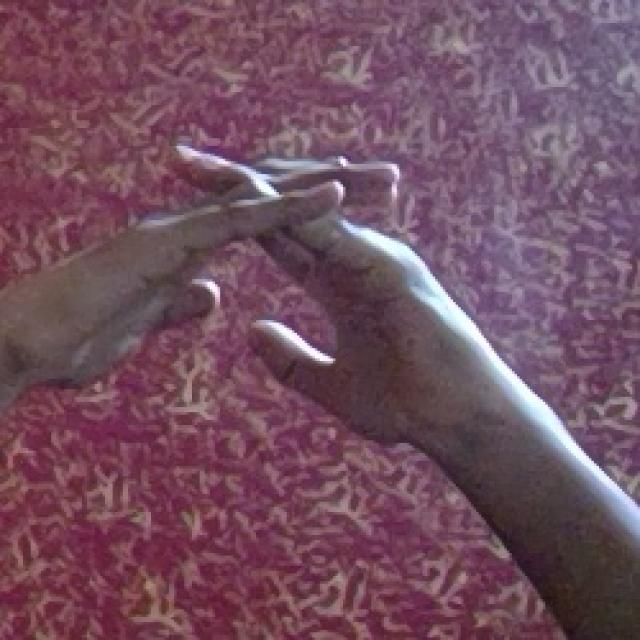Alphabet-W: (44, 123, 578, 473)
